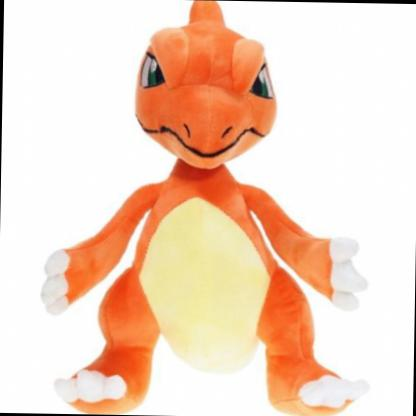Charmeleon: (1, 13, 416, 416)
